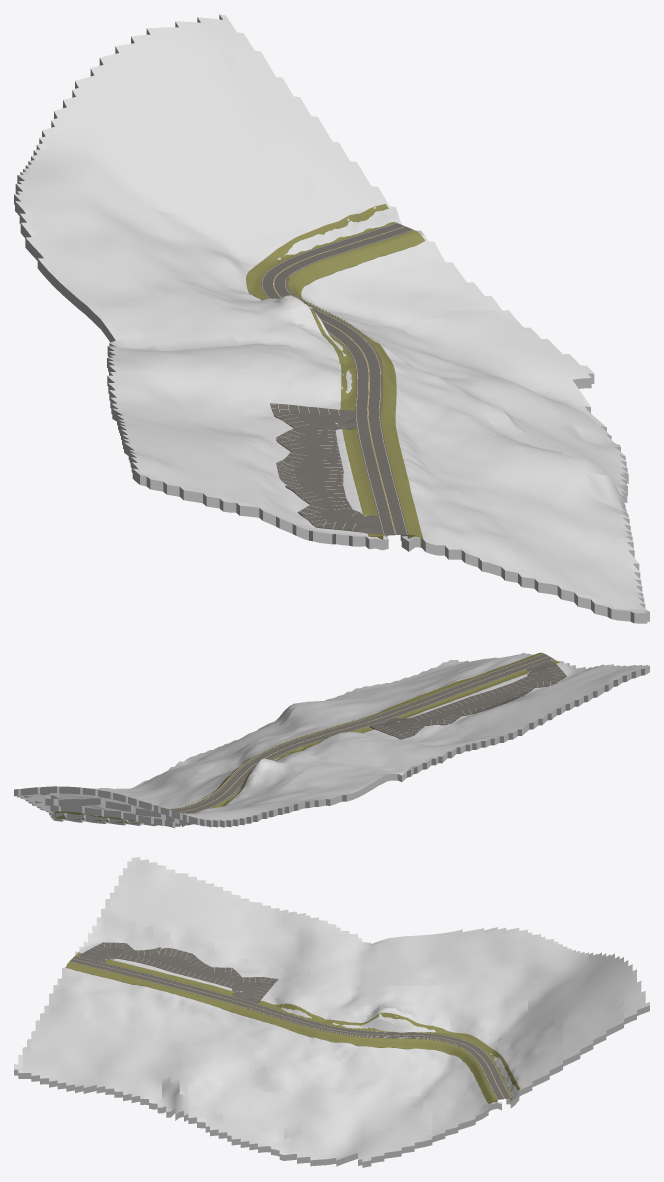
The model's file is conz_180.glb.
3 views of the same model, one above another, from view 1: azimuth 30°, elevation 25°; view 2: azimuth 150°, elevation 25°; view 3: azimuth 270°, elevation 25° (orthographic). The views are drawn at different scales.
Parts seen in each view (by area): view 1: terrain180, road180, lot180_15, verge180L, verge180R; view 2: terrain180, road180, lot180_15, verge180R, verge180L, paint_yellow180, paint_white180; view 3: terrain180, verge180L, road180, lot180_15, verge180R.
Part boxes in pixels (x1,y1,x2,y2): terrain180: (14, 14, 649, 623); road180: (261, 222, 413, 535); lot180_15: (270, 403, 382, 533); verge180L: (286, 230, 425, 547); verge180R: (246, 204, 395, 539); terrain180: (14, 652, 649, 828); road180: (171, 653, 553, 813); lot180_15: (369, 660, 566, 739); verge180R: (54, 659, 559, 824); verge180L: (169, 652, 543, 809); paint_yellow180: (178, 656, 548, 812); paint_white180: (173, 653, 553, 813); terrain180: (14, 857, 649, 1167); verge180L: (65, 961, 497, 1104); road180: (69, 956, 511, 1099); lot180_15: (79, 942, 278, 1003); verge180R: (75, 952, 519, 1101).
Size of the model in its own units: 202 by 73.69 by 292.
